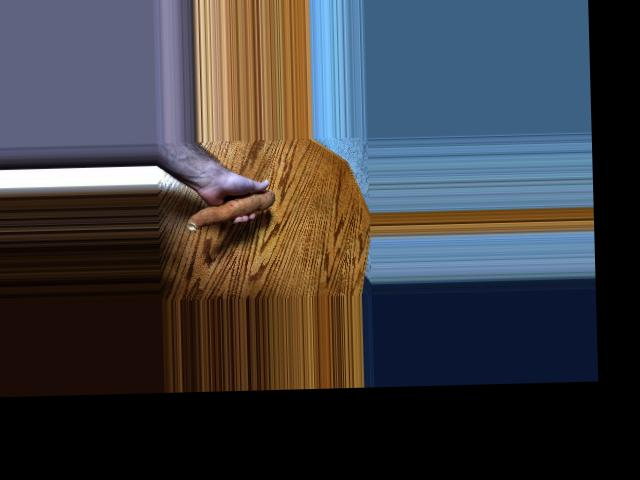sweet_potato: (186, 191, 277, 217)
